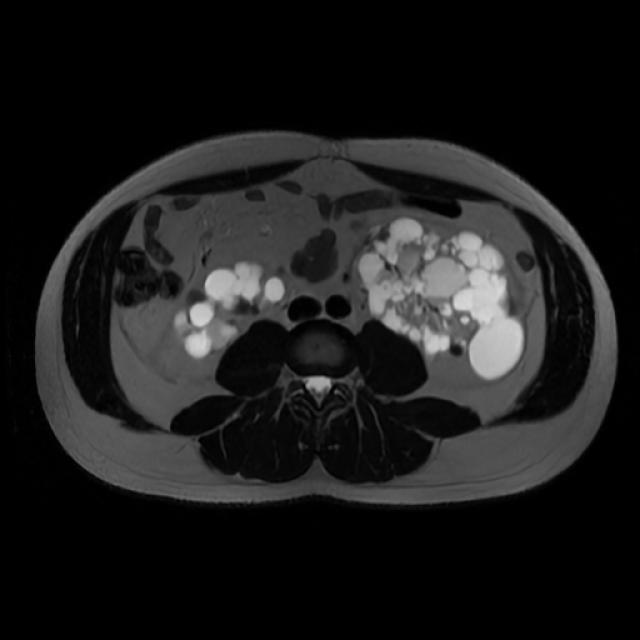sag: (172, 260, 289, 358)
sol: (360, 217, 525, 381)
